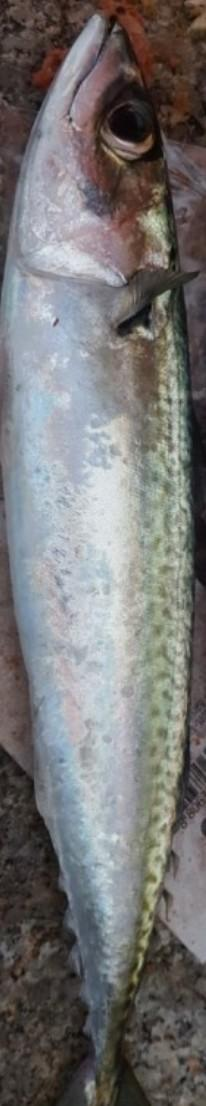fish: (1, 15, 198, 1105)
